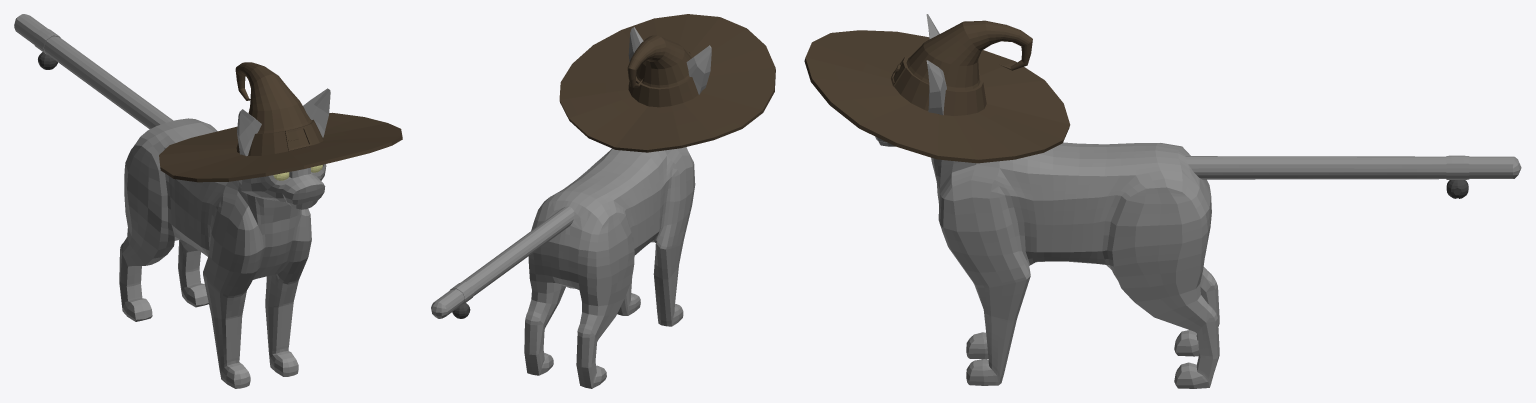
File: Astridmodell_2.fbx
3 views of the same model, side by side, from view 1: azimuth 30°, elevation 25°; view 2: azimuth 150°, elevation 25°; view 3: azimuth 270°, elevation 25° (orthographic). The views are drawn at different scales.
Parts seen in each view (by area): view 1: Cat_Body_Mesh1, Cat_hatt_Mesh; view 2: Cat_Body_Mesh1, Cat_hatt_Mesh; view 3: Cat_Body_Mesh1, Cat_hatt_Mesh.
Boxes of the visible parts, x1,y1,x2,y2 form: Cat_Body_Mesh1: [14, 14, 330, 388]; Cat_hatt_Mesh: [159, 62, 402, 182]; Cat_Body_Mesh1: [431, 27, 711, 388]; Cat_hatt_Mesh: [559, 14, 775, 152]; Cat_Body_Mesh1: [875, 14, 1521, 388]; Cat_hatt_Mesh: [804, 20, 1070, 163].
Size of the model in its own units: 44.85 by 61.84 by 116.
